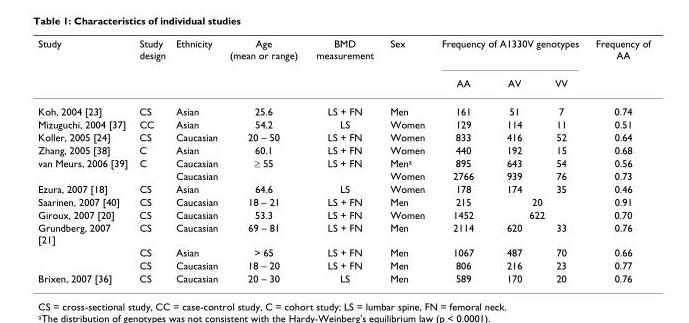table: (37, 37, 649, 283)
table column: (37, 37, 132, 283), (223, 37, 306, 283), (306, 37, 381, 283), (586, 37, 649, 283), (432, 37, 489, 283), (170, 37, 223, 283), (381, 37, 432, 283), (537, 37, 586, 283), (489, 37, 537, 283), (132, 37, 170, 283)
table column header: (37, 37, 649, 96)
table row: (37, 37, 649, 68), (37, 68, 649, 96), (37, 220, 649, 245), (37, 96, 649, 117), (37, 155, 649, 169), (37, 117, 649, 130), (37, 130, 649, 143), (37, 169, 649, 182), (37, 182, 649, 195), (37, 207, 649, 220), (37, 245, 649, 258), (37, 258, 649, 271), (37, 143, 649, 155), (37, 195, 649, 207), (37, 271, 649, 283)
table spanning cell: (37, 37, 132, 96), (223, 37, 306, 96), (37, 220, 132, 271), (432, 37, 586, 68), (306, 37, 381, 96), (586, 37, 649, 96), (170, 37, 223, 96), (381, 37, 432, 96), (37, 155, 132, 182), (132, 37, 170, 96), (489, 207, 586, 220), (489, 195, 586, 207)
